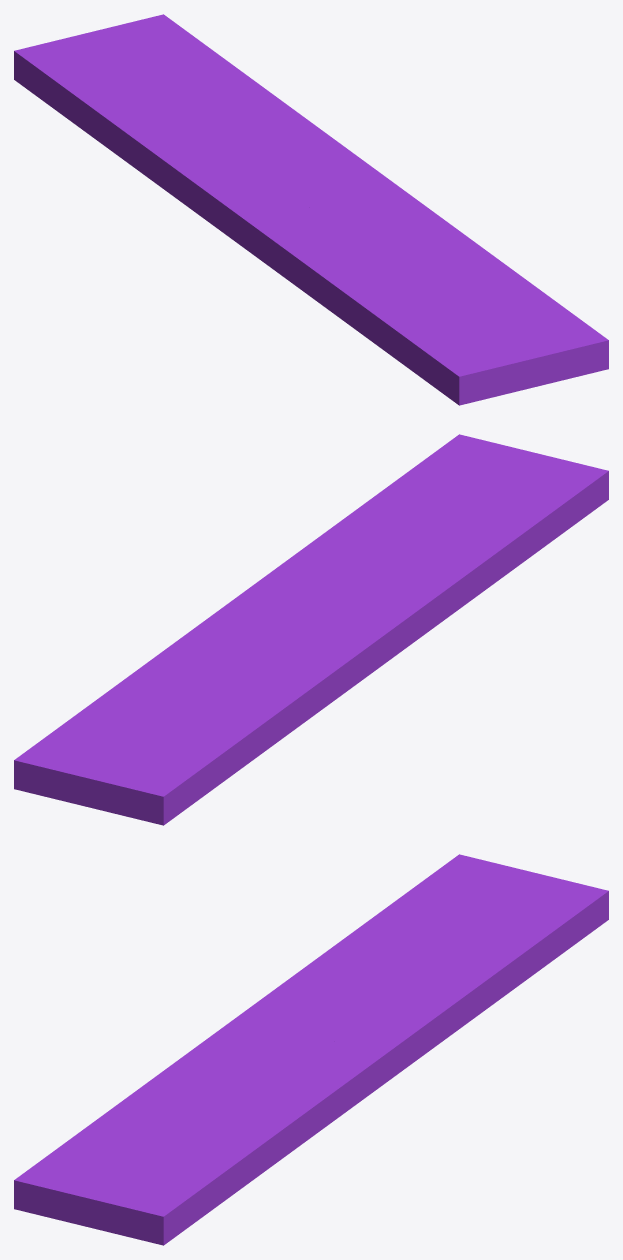
File: StairsStep_90_chunks.fbx
3 views of the same model, one above another, from view 1: azimuth 30°, elevation 25°; view 2: azimuth 150°, elevation 25°; view 3: azimuth 330°, elevation 25° (orthographic).
Visible parts, largest first — view 1: StairsStep_90_2, StairsStep_90_1, StairsStep_90_0, StairsStep_90_3; view 2: StairsStep_90_1, StairsStep_90_2, StairsStep_90_0, StairsStep_90_3; view 3: StairsStep_90_2, StairsStep_90_1, StairsStep_90_0, StairsStep_90_3.
Boxes of the visible parts, <box> form: StairsStep_90_2: <box>293,180,608,405</box>; StairsStep_90_1: <box>14,14,389,189</box>; StairsStep_90_0: <box>138,143,303,288</box>; StairsStep_90_3: <box>164,150,336,210</box>; StairsStep_90_1: <box>14,594,292,825</box>; StairsStep_90_2: <box>241,434,608,616</box>; StairsStep_90_0: <box>288,592,449,734</box>; StairsStep_90_3: <box>287,609,346,691</box>; StairsStep_90_2: <box>14,1040,382,1245</box>; StairsStep_90_1: <box>330,854,608,1087</box>; StairsStep_90_0: <box>181,947,332,1058</box>; StairsStep_90_3: <box>276,959,335,1041</box>.
Size of the model in its own units: 157 by 28.98 by 810.
